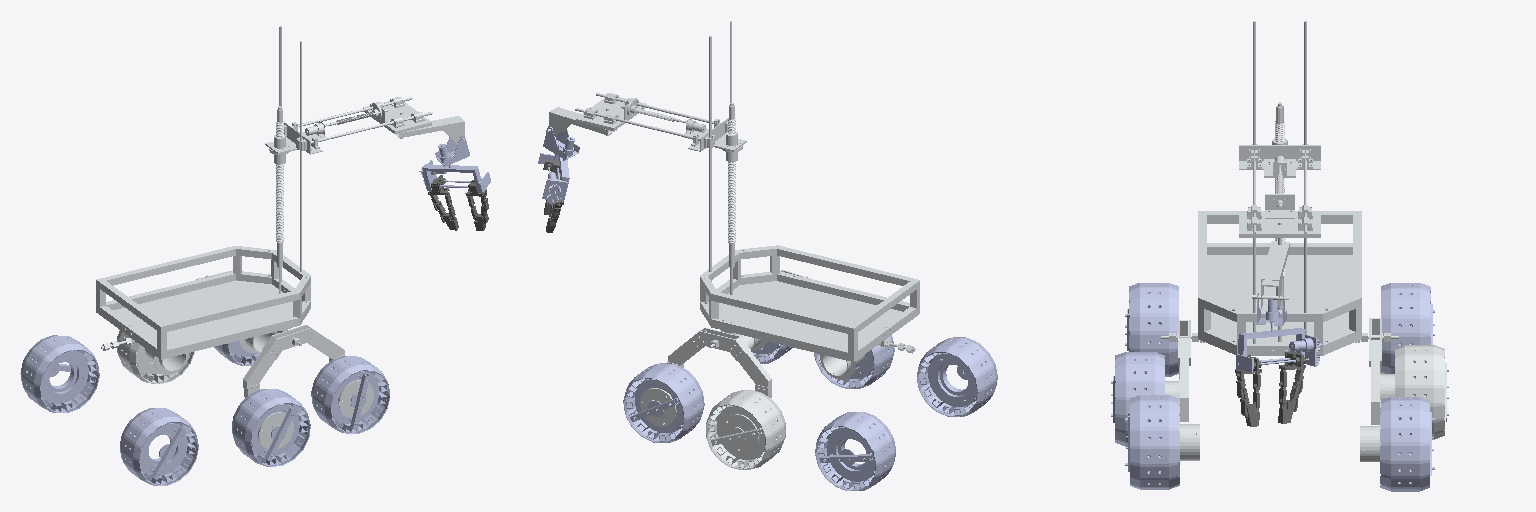
The robot description file, URDF, robot "roverfull2":
<?xml version="1.0" encoding="utf-8"?>
<!-- This URDF was automatically created by SolidWorks to URDF Exporter! Originally created by [author] ([email redacted]) 
     Commit Version: 1.5.1-0-g916b5db  Build Version: 1.5.7152.31018
     For more information, please see http://wiki.ros.org/sw_urdf_exporter -->
<robot
  name="roverfull2">
  <link
    name="base_link">
    <inertial>
      <origin
        xyz="0.390627992903174 -0.225000826679294 -0.00524116047614487"
        rpy="0 0 0" />
      <mass
        value="8.92481432729179" />
      <inertia
        ixx="0.200927778659357"
        ixy="-2.38445862202872E-08"
        ixz="7.49568682625905E-07"
        iyy="0.287176443590852"
        iyz="3.656663839131E-07"
        izz="0.236578408670972" />
    </inertial>
    <visual>
      <origin
        xyz="0 0 0"
        rpy="0 0 0" />
      <geometry>
        <mesh
          filename="package://roverfull2/meshes/base_link.STL" />
      </geometry>
      <material
        name="">
        <color
          rgba="0.898039215686275 0.917647058823529 0.929411764705882 1" />
      </material>
    </visual>
    <collision>
      <origin
        xyz="0 0 0"
        rpy="0 0 0" />
      <geometry>
        <mesh
          filename="package://roverfull2/meshes/base_link.STL" />
      </geometry>
    </collision>
  </link>
  <link
    name="frocker_r">
    <inertial>
      <origin
        xyz="-0.00592561850503992 -0.204564345826269 -0.656868984407299"
        rpy="0 0 0" />
      <mass
        value="3.62808269849788" />
      <inertia
        ixx="0.00500906208576131"
        ixy="5.33501708978563E-05"
        ixz="9.53784206745594E-06"
        iyy="0.00567797312385159"
        iyz="2.0106263766519E-06"
        izz="0.00521828016258716" />
    </inertial>
    <visual>
      <origin
        xyz="0 0 0"
        rpy="0 0 0" />
      <geometry>
        <mesh
          filename="package://roverfull2/meshes/frocker_r.STL" />
      </geometry>
      <material
        name="">
        <color
          rgba="0.898039215686275 0.917647058823529 0.929411764705882 1" />
      </material>
    </visual>
    <collision>
      <origin
        xyz="0 0 0"
        rpy="0 0 0" />
      <geometry>
        <mesh
          filename="package://roverfull2/meshes/frocker_r.STL" />
      </geometry>
    </collision>
  </link>
  <joint
    name="frocker_r_rev"
    type="revolute">
    <origin
      xyz="0.50364 0.1 -0.1463"
      rpy="1.5708 0 3.1416" />
    <parent
      link="base_link" />
    <child
      link="frocker_r" />
    <axis
      xyz="0 0 1" />
    <limit
      lower="0"
      upper="3.14"
      effort="0"
      velocity="0" />
  </joint>
  <link
    name="fwheel_r">
    <inertial>
      <origin
        xyz="6.60280705666594E-08 1.77122568278953E-08 -0.126320037033365"
        rpy="0 0 0" />
      <mass
        value="4.57641810426622" />
      <inertia
        ixx="0.0229681622888871"
        ixy="4.71906040971652E-05"
        ixz="-2.21722566896218E-09"
        iyy="0.0228054415849527"
        iyz="-3.99949402829746E-10"
        izz="0.0411576023588561" />
    </inertial>
    <visual>
      <origin
        xyz="0 0 0"
        rpy="0 0 0" />
      <geometry>
        <mesh
          filename="package://roverfull2/meshes/fwheel_r.STL" />
      </geometry>
      <material
        name="">
        <color
          rgba="0.792156862745098 0.819607843137255 0.933333333333333 1" />
      </material>
    </visual>
    <collision>
      <origin
        xyz="0 0 0"
        rpy="0 0 0" />
      <geometry>
        <mesh
          filename="package://roverfull2/meshes/fwheel_r.STL" />
      </geometry>
    </collision>
  </link>
  <joint
    name="fwheel_r_con"
    type="continuous">
    <origin
      xyz="-0.19005 -0.22827 -0.54388"
      rpy="0 0 0" />
    <parent
      link="frocker_r" />
    <child
      link="fwheel_r" />
    <axis
      xyz="0 0 1" />
    <limit
      lower="0"
      upper="3.14"
      effort="0"
      velocity="0" />
  </joint>
  <link
    name="mwheel_r">
    <inertial>
      <origin
        xyz="-5.91610797573416E-08 -3.4708003748829E-08 -0.130204609714562"
        rpy="0 0 0" />
      <mass
        value="4.57641810426621" />
      <inertia
        ixx="0.0229326959626408"
        ixy="8.20987129982453E-05"
        ixz="1.61130509180759E-09"
        iyy="0.022840907911199"
        iyz="1.21730207369358E-09"
        izz="0.0411576023588561" />
    </inertial>
    <visual>
      <origin
        xyz="0 0 0"
        rpy="0 0 0" />
      <geometry>
        <mesh
          filename="package://roverfull2/meshes/mwheel_r.STL" />
      </geometry>
      <material
        name="">
        <color
          rgba="0.792156862745098 0.819607843137255 0.933333333333333 1" />
      </material>
    </visual>
    <collision>
      <origin
        xyz="0 0 0"
        rpy="0 0 0" />
      <geometry>
        <mesh
          filename="package://roverfull2/meshes/mwheel_r.STL" />
      </geometry>
    </collision>
  </link>
  <joint
    name="mwheel_r_con"
    type="continuous">
    <origin
      xyz="0.15245 -0.25777 -0.58"
      rpy="0 0 0" />
    <parent
      link="frocker_r" />
    <child
      link="mwheel_r" />
    <axis
      xyz="0 0 1" />
    <limit
      lower="0"
      upper="3.14"
      effort="0"
      velocity="0" />
  </joint>
  <link
    name="frocker_l">
    <inertial>
      <origin
        xyz="-0.00944405559356859 -0.204322904220464 0.0068689884045614"
        rpy="0 0 0" />
      <mass
        value="3.62808311441716" />
      <inertia
        ixx="0.00500449356721194"
        ixy="-1.30696556999636E-06"
        ixz="8.94906673392479E-06"
        iyy="0.00568254172043279"
        iyz="-3.1191050104107E-06"
        izz="0.00521828016321352" />
    </inertial>
    <visual>
      <origin
        xyz="0 0 0"
        rpy="0 0 0" />
      <geometry>
        <mesh
          filename="package://roverfull2/meshes/frocker_l.STL" />
      </geometry>
      <material
        name="">
        <color
          rgba="0.898039215686275 0.917647058823529 0.929411764705882 1" />
      </material>
    </visual>
    <collision>
      <origin
        xyz="0 0 0"
        rpy="0 0 0" />
      <geometry>
        <mesh
          filename="package://roverfull2/meshes/frocker_l.STL" />
      </geometry>
    </collision>
  </link>
  <joint
    name="frocker_l_rev"
    type="revolute">
    <origin
      xyz="0.50364 0.1 -0.1463"
      rpy="1.5708 0 3.1416" />
    <parent
      link="base_link" />
    <child
      link="frocker_l" />
    <axis
      xyz="0 0 1" />
    <limit
      lower="0"
      upper="3.14"
      effort="0"
      velocity="0" />
  </joint>
  <link
    name="fwheel_l">
    <inertial>
      <origin
        xyz="-3.55382518135716E-08 5.84587941387937E-08 0.126320037033357"
        rpy="0 0 0" />
      <mass
        value="4.57641810426621" />
      <inertia
        ixx="0.0228437540468819"
        ixy="-8.36261814329286E-05"
        ixz="-1.14974303985051E-09"
        iyy="0.0229298498269578"
        iyz="1.54141616208056E-09"
        izz="0.0411576023588559" />
    </inertial>
    <visual>
      <origin
        xyz="0 0 0"
        rpy="0 0 0" />
      <geometry>
        <mesh
          filename="package://roverfull2/meshes/fwheel_l.STL" />
      </geometry>
      <material
        name="">
        <color
          rgba="0.792156862745098 0.819607843137255 0.933333333333333 1" />
      </material>
    </visual>
    <collision>
      <origin
        xyz="0 0 0"
        rpy="0 0 0" />
      <geometry>
        <mesh
          filename="package://roverfull2/meshes/fwheel_l.STL" />
      </geometry>
    </collision>
  </link>
  <joint
    name="fwheel_l_con"
    type="continuous">
    <origin
      xyz="-0.171879220613578 -0.242247640559571 -0.1061154273188"
      rpy="0 0 0" />
    <parent
      link="frocker_l" />
    <child
      link="fwheel_l" />
    <axis
      xyz="0 0 1" />
    <limit
      lower="0"
      upper="3.14"
      effort="0"
      velocity="0" />
  </joint>
  <link
    name="mwheel_l">
    <inertial>
      <origin
        xyz="-2.78106582207727E-08 6.24824634254395E-08 0.130204609714557"
        rpy="0 0 0" />
      <mass
        value="4.57641810426622" />
      <inertia
        ixx="0.022824026705411"
        ixy="-7.00409145902802E-05"
        ixz="-9.92031522046047E-10"
        iyy="0.0229495771684287"
        iyz="1.70143609867433E-09"
        izz="0.0411576023588559" />
    </inertial>
    <visual>
      <origin
        xyz="0 0 0"
        rpy="0 0 0" />
      <geometry>
        <mesh
          filename="package://roverfull2/meshes/mwheel_l.STL" />
      </geometry>
      <material
        name="">
        <color
          rgba="0.898039215686275 0.917647058823529 0.929411764705882 1" />
      </material>
    </visual>
    <collision>
      <origin
        xyz="0 0 0"
        rpy="0 0 0" />
      <geometry>
        <mesh
          filename="package://roverfull2/meshes/mwheel_l.STL" />
      </geometry>
    </collision>
  </link>
  <joint
    name="mwheel_l_con"
    type="continuous">
    <origin
      xyz="0.171879220613583 -0.245997640559572 -0.0699999999999998"
      rpy="0 0 0" />
    <parent
      link="frocker_l" />
    <child
      link="mwheel_l" />
    <axis
      xyz="0 0 1" />
    <limit
      lower="0"
      upper="3.14"
      effort="0"
      velocity="0" />
  </joint>
  <link
    name="brocker">
    <inertial>
      <origin
        xyz="-0.0762121804734911 -0.224999997620734 -0.362720491575227"
        rpy="0 0 0" />
      <mass
        value="3.58373396869916" />
      <inertia
        ixx="0.00608413831974133"
        ixy="-8.75712717051838E-06"
        ixz="-1.71200148472069E-06"
        iyy="0.00375597876242283"
        iyz="3.88057182040724E-06"
        izz="0.00574617112204382" />
    </inertial>
    <visual>
      <origin
        xyz="0 0 0"
        rpy="0 0 0" />
      <geometry>
        <mesh
          filename="package://roverfull2/meshes/brocker.STL" />
      </geometry>
      <material
        name="">
        <color
          rgba="0.898039215686275 0.917647058823529 0.929411764705882 1" />
      </material>
    </visual>
    <collision>
      <origin
        xyz="0 0 0"
        rpy="0 0 0" />
      <geometry>
        <mesh
          filename="package://roverfull2/meshes/brocker.STL" />
      </geometry>
    </collision>
  </link>
  <joint
    name="brocker_rev"
    type="revolute">
    <origin
      xyz="0 0 0"
      rpy="0 0 0" />
    <parent
      link="base_link" />
    <child
      link="brocker" />
    <axis
      xyz="1 0 0" />
    <limit
      lower="0"
      upper="3.14"
      effort="0"
      velocity="0" />
  </joint>
  <link
    name="bwheel_r">
    <inertial>
      <origin
        xyz="5.59375761266523E-08 3.9292225750831E-08 -0.127204609714562"
        rpy="0 0 0" />
      <mass
        value="4.57641810426623" />
      <inertia
        ixx="0.0229187940524817"
        ixy="8.84475250672531E-05"
        ixz="-1.84713279061157E-09"
        iyy="0.0228548098213584"
        iyz="-9.93983410456802E-10"
        izz="0.0411576023588562" />
    </inertial>
    <visual>
      <origin
        xyz="0 0 0"
        rpy="0 0 0" />
      <geometry>
        <mesh
          filename="package://roverfull2/meshes/bwheel_r.STL" />
      </geometry>
      <material
        name="">
        <color
          rgba="0.792156862745098 0.819607843137255 0.933333333333333 1" />
      </material>
    </visual>
    <collision>
      <origin
        xyz="0 0 0"
        rpy="0 0 0" />
      <geometry>
        <mesh
          filename="package://roverfull2/meshes/bwheel_r.STL" />
      </geometry>
    </collision>
  </link>
  <joint
    name="bwheel_r_con"
    type="continuous">
    <origin
      xyz="-0.0753999999999999 -0.4438845726812 -0.393799999999996"
      rpy="1.5707963267949 0 3.14159265358979" />
    <parent
      link="brocker" />
    <child
      link="bwheel_r" />
    <axis
      xyz="0 0 1" />
    <limit
      lower="0"
      upper="3.14"
      effort="0"
      velocity="0" />
  </joint>
  <link
    name="bwheel_l">
    <inertial>
      <origin
        xyz="-1.75642475008786E-08 6.60826227627531E-08 0.12720460971456"
        rpy="0 0 0" />
      <mass
        value="4.57641810426623" />
      <inertia
        ixx="0.0228052535039748"
        ixy="-4.68648354323432E-05"
        ixz="-7.40112139987691E-10"
        iyy="0.022968350369865"
        iyz="1.87284569616534E-09"
        izz="0.041157602358856" />
    </inertial>
    <visual>
      <origin
        xyz="0 0 0"
        rpy="0 0 0" />
      <geometry>
        <mesh
          filename="package://roverfull2/meshes/bwheel_l.STL" />
      </geometry>
      <material
        name="">
        <color
          rgba="0.792156862745098 0.819607843137255 0.933333333333333 1" />
      </material>
    </visual>
    <collision>
      <origin
        xyz="0 0 0"
        rpy="0 0 0" />
      <geometry>
        <mesh
          filename="package://roverfull2/meshes/bwheel_l.STL" />
      </geometry>
    </collision>
  </link>
  <joint
    name="bwheel_l_con"
    type="continuous">
    <origin
      xyz="-0.0753999999999954 -0.00611542731880199 -0.393799999999983"
      rpy="1.5707963267949 0 3.14159265358979" />
    <parent
      link="brocker" />
    <child
      link="bwheel_l" />
    <axis
      xyz="0 0 1" />
    <limit
      lower="0"
      upper="3.14"
      effort="0"
      velocity="0" />
  </joint>
  <link
    name="arm_1">
    <inertial>
      <origin
        xyz="0.758284098877497 -0.224998622573153 0.475864732604351"
        rpy="0 0 0" />
      <mass
        value="1.97622844031206" />
      <inertia
        ixx="0.00130588627630206"
        ixy="1.84105199324513E-08"
        ixz="2.44483516668304E-05"
        iyy="0.0145858160715925"
        iyz="-2.48783800342458E-08"
        izz="0.015315143760798" />
    </inertial>
    <visual>
      <origin
        xyz="0 0 0"
        rpy="0 0 0" />
      <geometry>
        <mesh
          filename="package://roverfull2/meshes/arm_1.STL" />
      </geometry>
      <material
        name="">
        <color
          rgba="0.898039215686275 0.917647058823529 0.929411764705882 1" />
      </material>
    </visual>
    <collision>
      <origin
        xyz="0 0 0"
        rpy="0 0 0" />
      <geometry>
        <mesh
          filename="package://roverfull2/meshes/arm_1.STL" />
      </geometry>
    </collision>
  </link>
  <joint
    name="arm_1_pri"
    type="prismatic">
    <origin
      xyz="0 0 0"
      rpy="0 0 0" />
    <parent
      link="base_link" />
    <child
      link="arm_1" />
    <axis
      xyz="0 0 -1" />
    <limit
      lower="-0.3"
      upper="0.06"
      effort="0"
      velocity="0" />
  </joint>
  <link
    name="arm_2">
    <inertial>
      <origin
        xyz="1.07581673794265 -0.225000032723442 0.471033171543102"
        rpy="0 0 0" />
      <mass
        value="2.01149065259503" />
      <inertia
        ixx="0.00481583912868421"
        ixy="-2.30028487857025E-09"
        ixz="8.75882659858047E-06"
        iyy="0.00223882197928408"
        iyz="4.76930240531077E-12"
        izz="0.00680854703925199" />
    </inertial>
    <visual>
      <origin
        xyz="0 0 0"
        rpy="0 0 0" />
      <geometry>
        <mesh
          filename="package://roverfull2/meshes/arm_2.STL" />
      </geometry>
      <material
        name="">
        <color
          rgba="0.898039215686275 0.917647058823529 0.929411764705882 1" />
      </material>
    </visual>
    <collision>
      <origin
        xyz="0 0 0"
        rpy="0 0 0" />
      <geometry>
        <mesh
          filename="package://roverfull2/meshes/arm_2.STL" />
      </geometry>
    </collision>
  </link>
  <joint
    name="arm_2_pri"
    type="prismatic">
    <origin
      xyz="0 0 0"
      rpy="0 0 0" />
    <parent
      link="arm_1" />
    <child
      link="arm_2" />
    <axis
      xyz="-1 0 0" />
    <limit
      lower="-0.15"
      upper="0.02"
      effort="0"
      velocity="0" />
  </joint>
  <link
    name="arm_3">
    <inertial>
      <origin
        xyz="0.11616967785363 0.0192309602616632 5.28751820105811E-10"
        rpy="0 0 0" />
      <mass
        value="0.2134325834612" />
      <inertia
        ixx="9.22086821479591E-05"
        ixy="-5.38021185624505E-06"
        ixz="9.11798672894074E-12"
        iyy="0.0010645504874968"
        iyz="8.22887492816649E-13"
        izz="0.00101495891687128" />
    </inertial>
    <visual>
      <origin
        xyz="0 0 0"
        rpy="0 0 0" />
      <geometry>
        <mesh
          filename="package://roverfull2/meshes/arm_3.STL" />
      </geometry>
      <material
        name="">
        <color
          rgba="0.898039215686275 0.917647058823529 0.929411764705882 1" />
      </material>
    </visual>
    <collision>
      <origin
        xyz="0 0 0"
        rpy="0 0 0" />
      <geometry>
        <mesh
          filename="package://roverfull2/meshes/arm_3.STL" />
      </geometry>
    </collision>
  </link>
  <joint
    name="arm_3_rev"
    type="revolute">
    <origin
      xyz="1.09406614726591 -0.224999999999987 0.376149999999977"
      rpy="1.5707963267949 0 -0.117391442296921" />
    <parent
      link="arm_2" />
    <child
      link="arm_3" />
    <axis
      xyz="0 -1 0" />
    <limit
      lower="-3.14"
      upper="3.14"
      effort="0"
      velocity="0" />
  </joint>
  <link
    name="arm_4">
    <inertial>
      <origin
        xyz="0.0507999999974929 -0.063638898515562 -0.0475773388143453"
        rpy="0 0 0" />
      <mass
        value="0.157002726479324" />
      <inertia
        ixx="8.76040768024603E-05"
        ixy="1.18207659154801E-11"
        ixz="4.52024188800961E-11"
        iyy="6.7960685181663E-05"
        iyz="-2.68157898203755E-06"
        izz="9.44845885245056E-05" />
    </inertial>
    <visual>
      <origin
        xyz="0 0 0"
        rpy="0 0 0" />
      <geometry>
        <mesh
          filename="package://roverfull2/meshes/arm_4.STL" />
      </geometry>
      <material
        name="">
        <color
          rgba="0.792156862745098 0.819607843137255 0.933333333333333 1" />
      </material>
    </visual>
    <collision>
      <origin
        xyz="0 0 0"
        rpy="0 0 0" />
      <geometry>
        <mesh
          filename="package://roverfull2/meshes/arm_4.STL" />
      </geometry>
    </collision>
  </link>
  <joint
    name="arm_4_rev"
    type="revolute">
    <origin
      xyz="0.218000000000006 -0.0260000000000016 0.0508000000000022"
      rpy="0 1.5707963267949 0" />
    <parent
      link="arm_3" />
    <child
      link="arm_4" />
    <axis
      xyz="-1 0 0" />
    <limit
      lower="0"
      upper="3.14"
      effort="0"
      velocity="0" />
  </joint>
  <link
    name="arm_5">
    <inertial>
      <origin
        xyz="0.0437981528600424 -0.0413542909914428 0.0315314071150152"
        rpy="0 0 0" />
      <mass
        value="0.371561862036471" />
      <inertia
        ixx="8.04531778734177E-05"
        ixy="2.71846417948633E-07"
        ixz="2.03243749180377E-07"
        iyy="0.000695815523736749"
        iyz="6.88585460404746E-07"
        izz="0.00069829257579992" />
    </inertial>
    <visual>
      <origin
        xyz="0 0 0"
        rpy="0 0 0" />
      <geometry>
        <mesh
          filename="package://roverfull2/meshes/arm_5.STL" />
      </geometry>
      <material
        name="">
        <color
          rgba="0.792156862745098 0.819607843137255 0.933333333333333 1" />
      </material>
    </visual>
    <collision>
      <origin
        xyz="0 0 0"
        rpy="0 0 0" />
      <geometry>
        <mesh
          filename="package://roverfull2/meshes/arm_5.STL" />
      </geometry>
    </collision>
  </link>
  <joint
    name="arm_5_rev"
    type="revolute">
    <origin
      xyz="0.0508 -0.12945 -0.030155"
      rpy="-0.14249 0.69562 -0.22023" />
    <parent
      link="arm_4" />
    <child
      link="arm_5" />
    <axis
      xyz="0 -0.98132 0.19236" />
    <limit
      lower="0"
      upper="3.14"
      effort="0"
      velocity="0" />
  </joint>
  <link
    name="finger_1">
    <inertial>
      <origin
        xyz="1.35743023645333 -0.307257373860656 0.0997263361058026"
        rpy="0 0 0" />
      <mass
        value="0.16990761907047" />
      <inertia
        ixx="4.32309067444289E-05"
        ixy="3.40680570740019E-06"
        ixz="3.86826965031035E-06"
        iyy="4.08701285603207E-05"
        iyz="2.9907995400991E-06"
        izz="2.13040675558832E-05" />
    </inertial>
    <visual>
      <origin
        xyz="0 0 0"
        rpy="0 0 0" />
      <geometry>
        <mesh
          filename="package://roverfull2/meshes/finger_1.STL" />
      </geometry>
      <material
        name="">
        <color
          rgba="0.498039215686275 0.498039215686275 0.498039215686275 1" />
      </material>
    </visual>
    <collision>
      <origin
        xyz="0 0 0"
        rpy="0 0 0" />
      <geometry>
        <mesh
          filename="package://roverfull2/meshes/finger_1.STL" />
      </geometry>
    </collision>
  </link>
  <joint
    name="finger_1_pri"
    type="prismatic">
    <origin
      xyz="0.941996262521212 -0.0636309720354219 -0.926442486473448"
      rpy="1.5707963267949 -0.980519680528883 -2.97309974796777" />
    <parent
      link="arm_5" />
    <child
      link="finger_1" />
    <axis
      xyz="-0.548708784039424 0.819021646560213 -0.167696788233332" />
    <limit
      lower="0"
      upper="0.03"
      effort="0"
      velocity="0" />
  </joint>
  <link
    name="finger_2">
    <inertial>
      <origin
        xyz="1.28151600097203 -0.193944635537133 0.0765237092505957"
        rpy="0 0 0" />
      <mass
        value="0.169907626108929" />
      <inertia
        ixx="4.14627570140935E-05"
        ixy="4.83179492497717E-06"
        ixz="7.00145916731703E-06"
        iyy="4.05577815301428E-05"
        iyz="-2.06045387036006E-06"
        izz="2.33845655134681E-05" />
    </inertial>
    <visual>
      <origin
        xyz="0 0 0"
        rpy="0 0 0" />
      <geometry>
        <mesh
          filename="package://roverfull2/meshes/finger_2.STL" />
      </geometry>
      <material
        name="">
        <color
          rgba="0.498039215686275 0.498039215686275 0.498039215686275 1" />
      </material>
    </visual>
    <collision>
      <origin
        xyz="0 0 0"
        rpy="0 0 0" />
      <geometry>
        <mesh
          filename="package://roverfull2/meshes/finger_2.STL" />
      </geometry>
    </collision>
  </link>
  <joint
    name="finger_2_pri"
    type="prismatic">
    <origin
      xyz="0.941996262521212 -0.0636309720354219 -0.926442486473448"
      rpy="1.5707963267949 -0.980519680528883 -2.97309974796777" />
    <parent
      link="arm_5" />
    <child
      link="finger_2" />
    <axis
      xyz="-0.548708784039424 0.819021646560213 -0.167696788233332" />
    <limit
      lower="0"
      upper="0.04"
      effort="0"
      velocity="0" />
  </joint>
</robot>

--- Facts derived from the render (not from the file) ---
Views: 3 orthographic renders of the robot side by side, from view 1: azimuth 30°, elevation 25°; view 2: azimuth 150°, elevation 25°; view 3: azimuth 270°, elevation 25°.
Model roverfull2 with 17 links and 16 joints (6 revolute, 6 continuous, 4 prismatic), rooted at base_link, posed every joint at zero.
Links seen in each view (by area): view 1: base_link, bwheel_l, bwheel_r, fwheel_r, mwheel_r, frocker_r, arm_1, mwheel_l, arm_2, frocker_l, arm_5, arm_3 (+4 smaller); view 2: base_link, bwheel_l, bwheel_r, mwheel_l, fwheel_l, frocker_l, arm_1, mwheel_r, arm_2, frocker_r, arm_5, arm_3 (+1 smaller); view 3: base_link, fwheel_l, fwheel_r, bwheel_r, bwheel_l, mwheel_l, mwheel_r, arm_1, arm_2, frocker_l, frocker_r, arm_5 (+4 smaller).
Link boxes in pixels (x1,y1,x2,y2): base_link: [96, 26, 310, 359]; bwheel_l: [20, 335, 99, 412]; bwheel_r: [120, 408, 198, 485]; fwheel_r: [311, 356, 389, 433]; mwheel_r: [232, 389, 310, 466]; frocker_r: [243, 325, 373, 449]; arm_1: [265, 97, 432, 163]; mwheel_l: [117, 330, 194, 383]; arm_2: [363, 97, 431, 138]; frocker_l: [145, 271, 276, 374]; arm_5: [419, 160, 490, 192]; arm_3: [395, 116, 465, 144]; base_link: [700, 21, 919, 361]; bwheel_l: [815, 412, 895, 490]; bwheel_r: [917, 337, 997, 416]; mwheel_l: [706, 390, 785, 469]; fwheel_l: [623, 363, 704, 442]; frocker_l: [640, 328, 771, 452]; arm_1: [575, 93, 746, 161]; mwheel_r: [814, 335, 894, 388]; arm_2: [576, 93, 646, 135]; frocker_r: [734, 270, 864, 379]; arm_5: [538, 146, 569, 204]; arm_3: [546, 107, 616, 136]; base_link: [1161, 20, 1398, 355]; fwheel_l: [1380, 397, 1434, 491]; fwheel_r: [1125, 395, 1179, 489]; bwheel_r: [1125, 283, 1178, 376]; bwheel_l: [1381, 283, 1434, 373]; mwheel_l: [1395, 345, 1448, 439]; mwheel_r: [1111, 352, 1164, 446]; arm_1: [1239, 138, 1320, 234]; arm_2: [1239, 193, 1320, 244]; frocker_l: [1360, 318, 1395, 461]; frocker_r: [1165, 320, 1199, 464]; arm_5: [1236, 328, 1322, 372].
Bounding box of the posed robot: 1.62 × 0.9277 × 1.41 m (x, y, z).
Meshes: 17 distinct files referenced, 16 mesh visuals loaded (16 binary STL); not drawn: 1 (reference not matched to a file when rendering).
